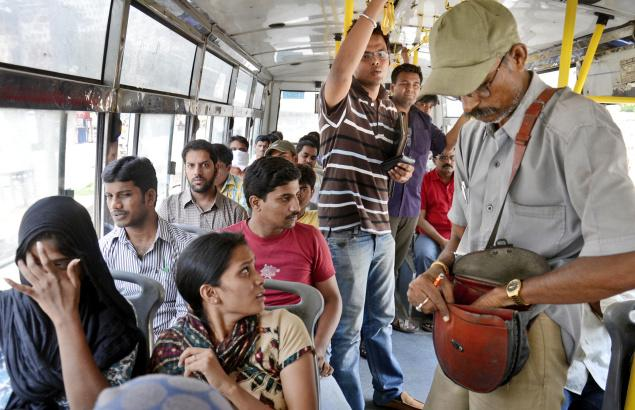without_mask: (440, 77, 518, 126), (219, 251, 268, 317), (102, 185, 145, 226), (268, 185, 302, 230), (357, 42, 389, 82), (185, 156, 213, 194), (397, 76, 420, 108)
